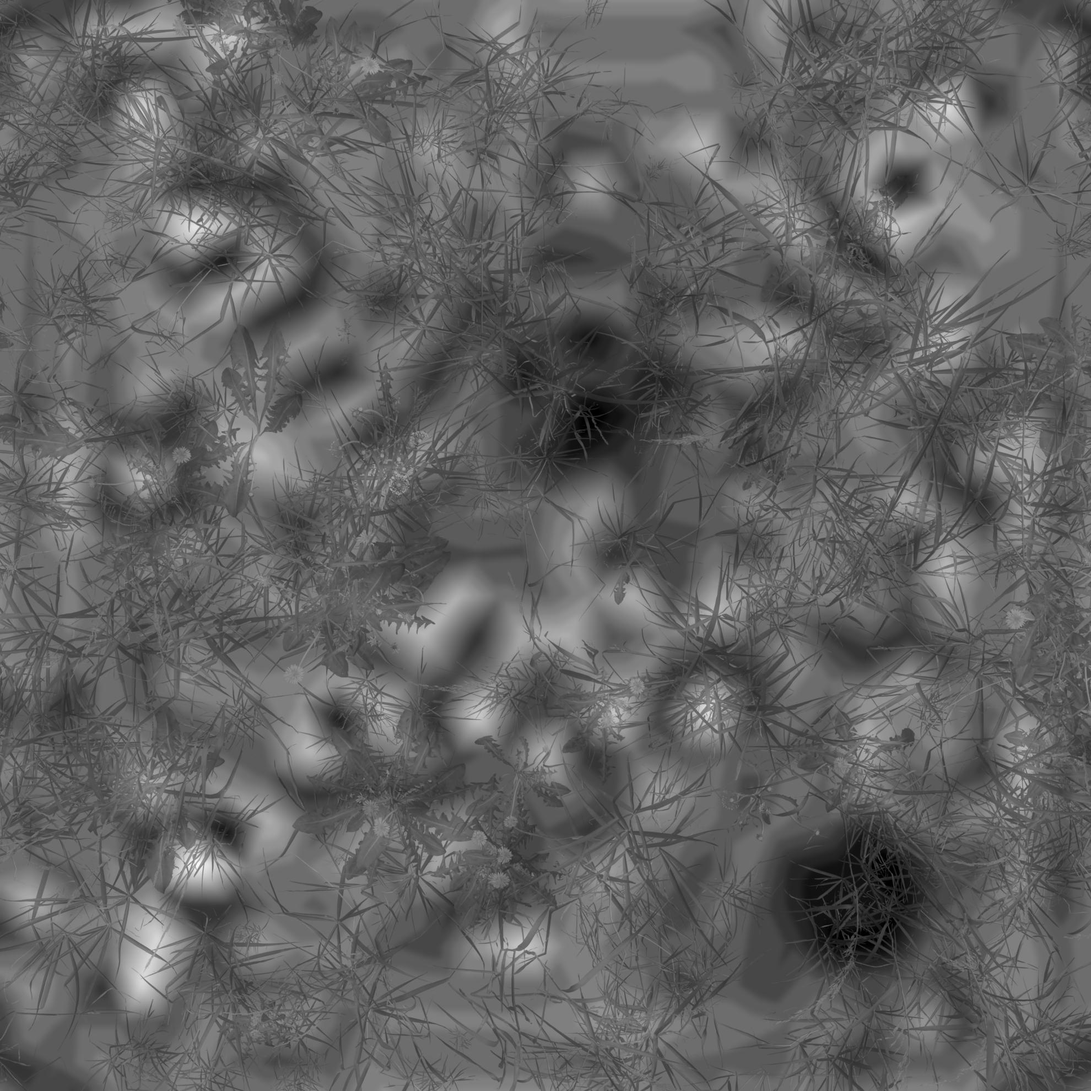landmine: (506, 316, 659, 470), (786, 832, 926, 960)
